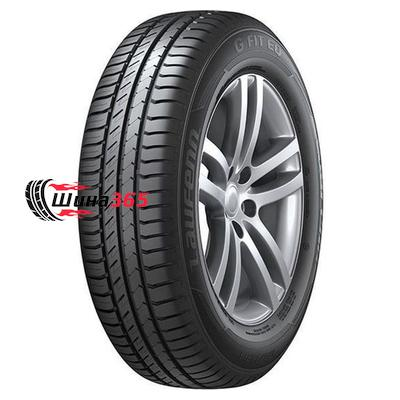objects: (25, 178, 149, 221)
